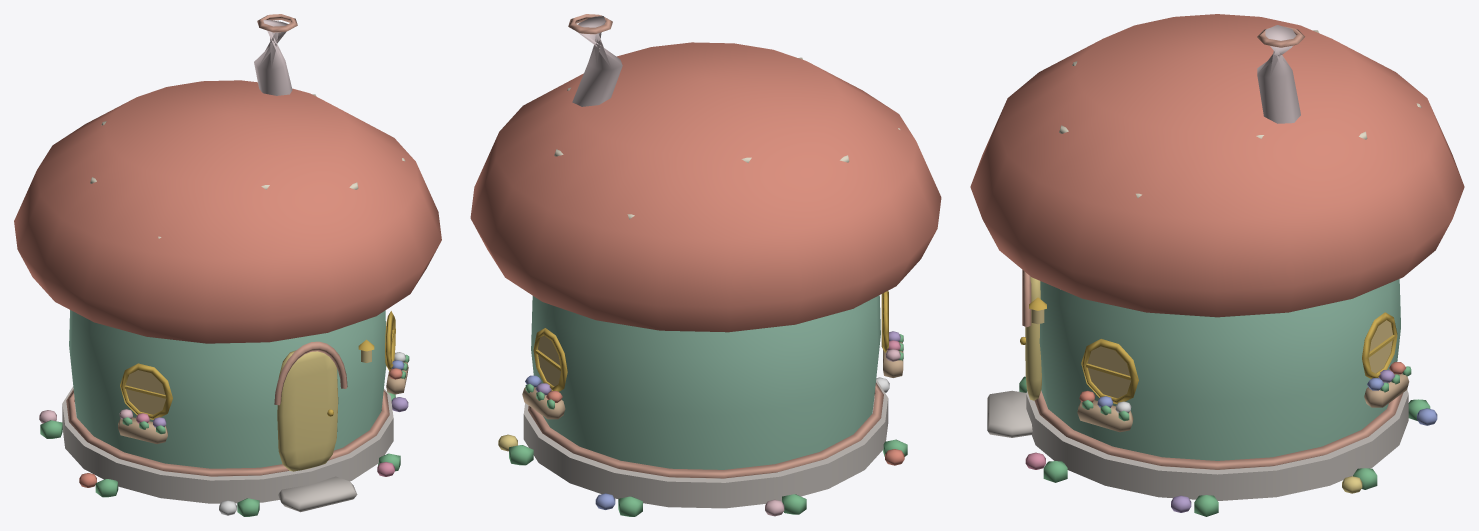
Rendered from fae_cottage_d.gltf.
3 renders of one model, left to right at view 1: azimuth 30°, elevation 25°; view 2: azimuth 150°, elevation 25°; view 3: azimuth 270°, elevation 25°, orthographic. The views are drawn at different scales.
Visible parts, largest first — view 1: fae_cottage_d; view 2: fae_cottage_d; view 3: fae_cottage_d.
Boxes of the visible parts, bbox=[...] form: fae_cottage_d: bbox=[14, 14, 441, 516]; fae_cottage_d: bbox=[470, 14, 941, 516]; fae_cottage_d: bbox=[970, 14, 1464, 516].
Size of what is drawn, in the model's own units: 6.72 by 6.64 by 6.72.
